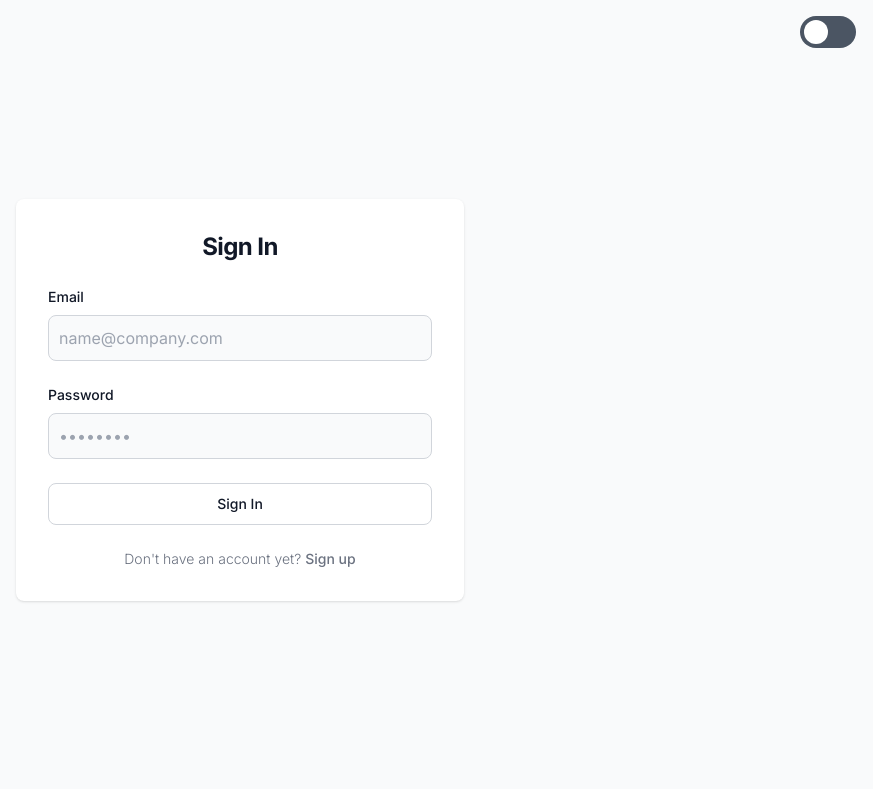
Sign In › should display an error for invalid email format
The image size is (873, 789).
Type "invalid-email" into the field named "email" at (240, 338), box [48,315,432,361]
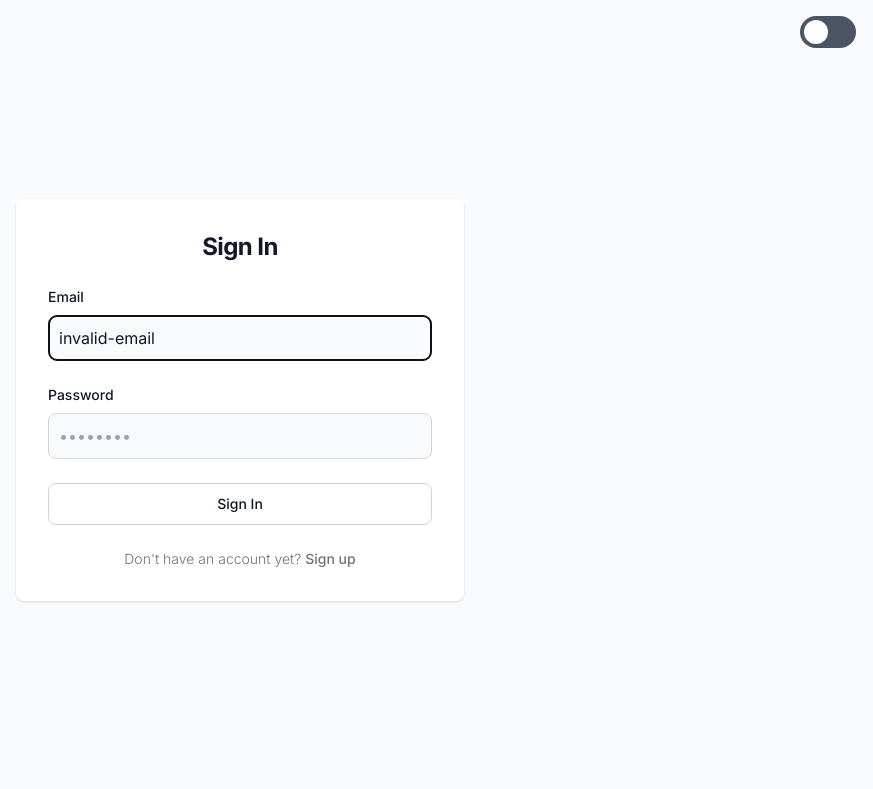
Type "password123" into the password field named "password" at (240, 436), box [48,413,432,459]
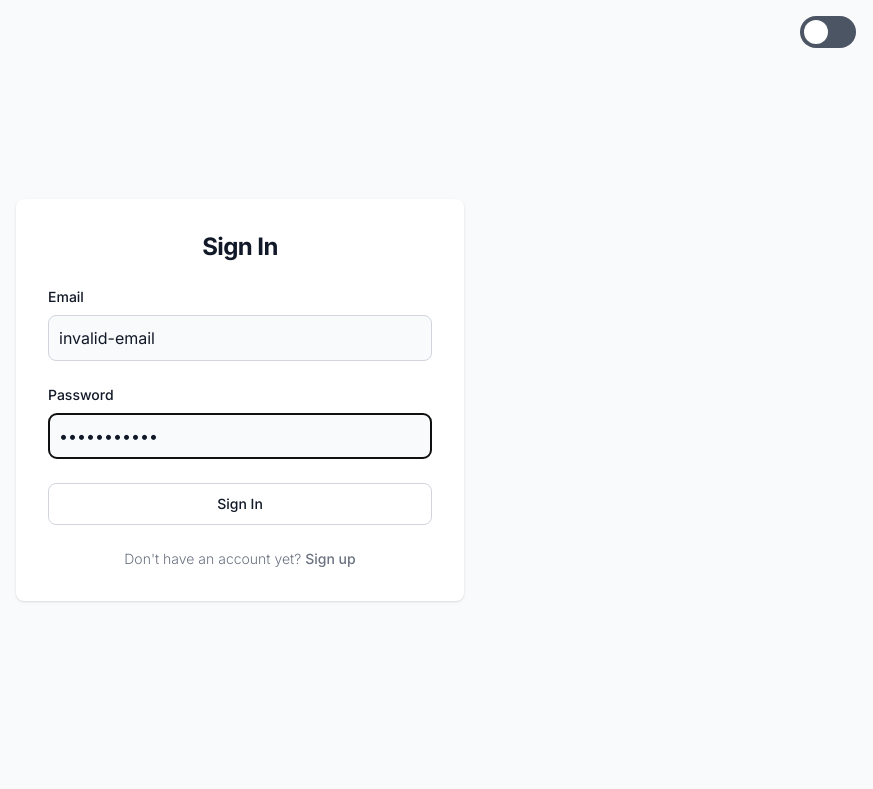
Click the button "Sign In" at (240, 504), box [48,483,432,525]
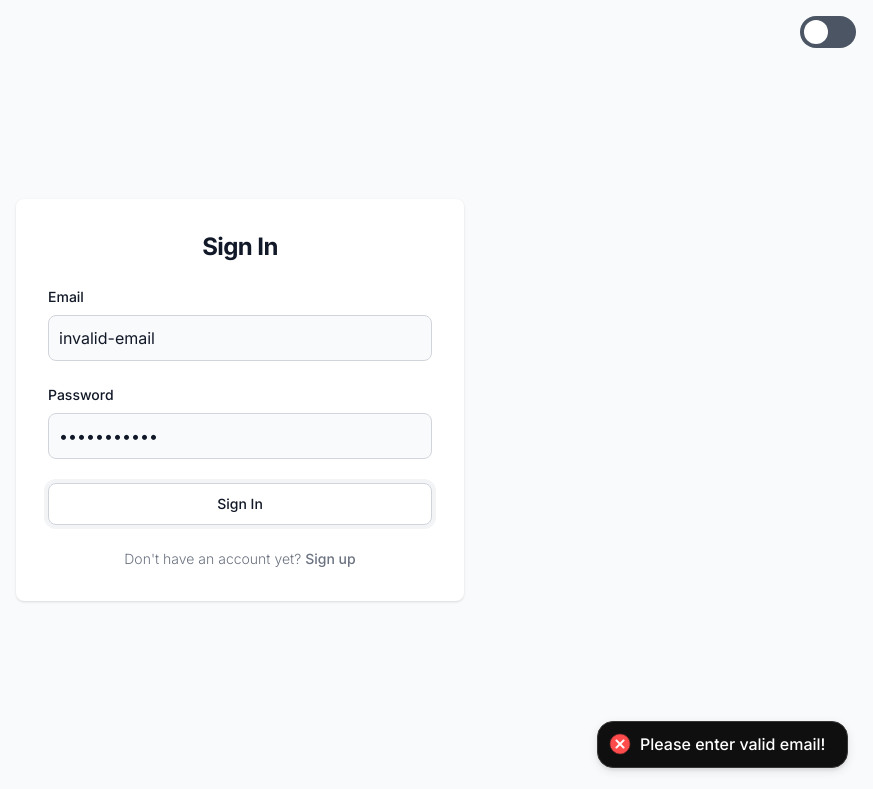
Expected: the text "Please enter valid email!" is shown, [640,734,825,755]
